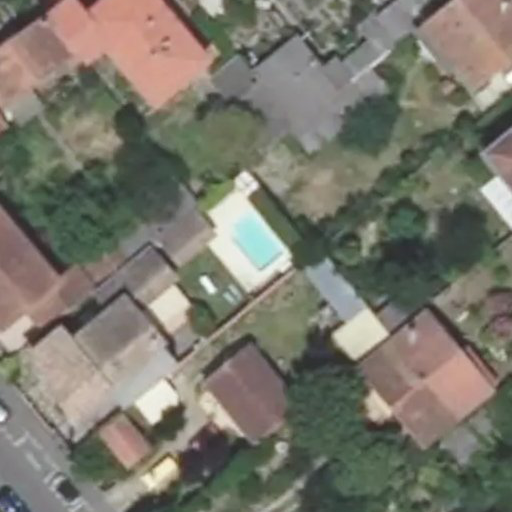pool: (225, 231, 287, 252)
